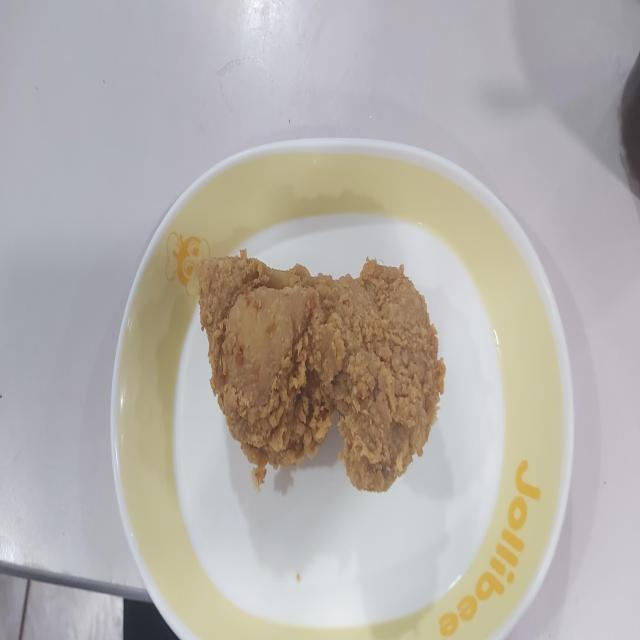Chicken -Fried Chicken-: (187, 232, 470, 520)
